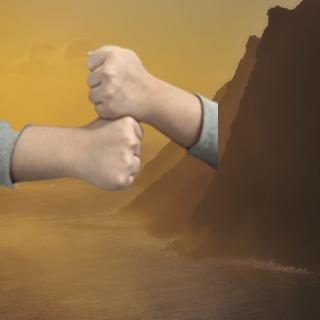CAREFUL: (34, 46, 213, 190)
